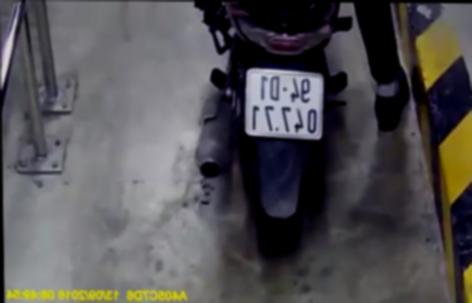License_Plate: (233, 68, 330, 145)
